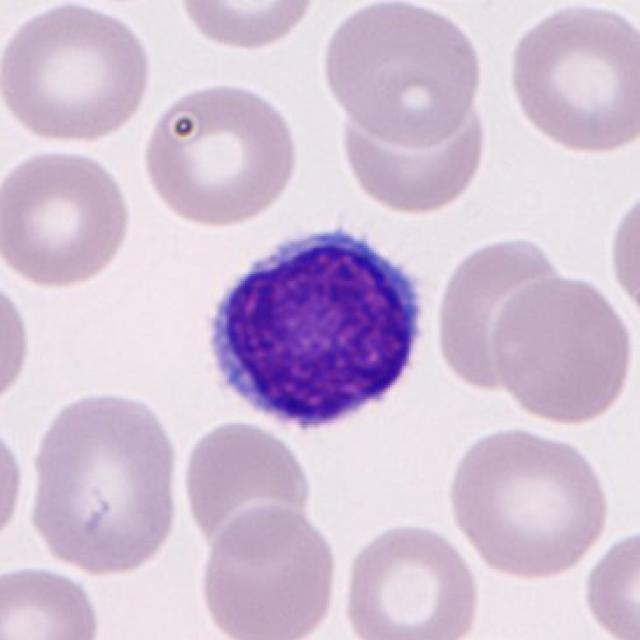Lymphocyte: (194, 215, 436, 441)
RBC: (23, 387, 185, 579), (442, 423, 616, 581), (138, 76, 303, 231), (316, 0, 488, 146), (484, 270, 636, 426), (0, 0, 157, 147), (432, 227, 570, 394), (504, 0, 638, 160), (332, 88, 493, 218), (194, 501, 341, 640), (0, 142, 136, 291), (178, 416, 316, 552), (337, 518, 484, 640), (0, 560, 105, 640), (170, 0, 322, 54), (579, 524, 638, 640), (0, 265, 33, 413), (607, 180, 640, 324), (0, 414, 28, 554)
